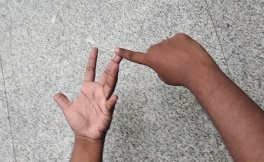u: (50, 43, 165, 136)
